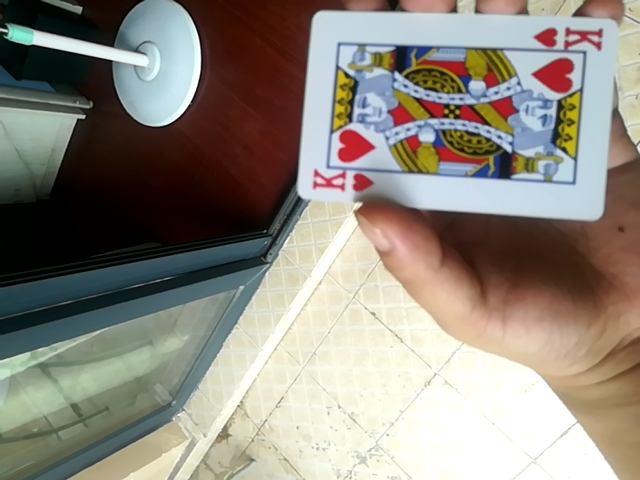hx k: (293, 8, 621, 225)
